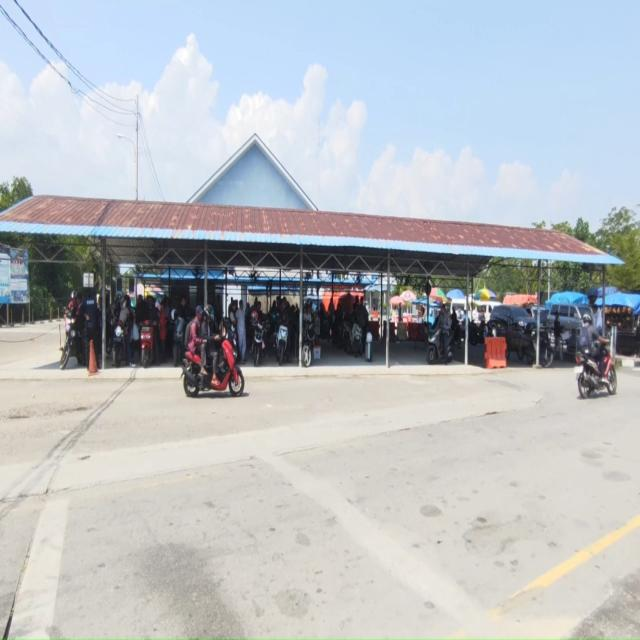Golongan II: (182, 336, 245, 398), (574, 349, 617, 398), (516, 325, 554, 368), (60, 312, 86, 370), (427, 326, 453, 364), (172, 316, 187, 367), (139, 320, 154, 368), (302, 320, 316, 368), (112, 321, 126, 368), (252, 320, 266, 367), (276, 324, 288, 366), (339, 318, 353, 353), (349, 322, 362, 358), (468, 321, 486, 346)
